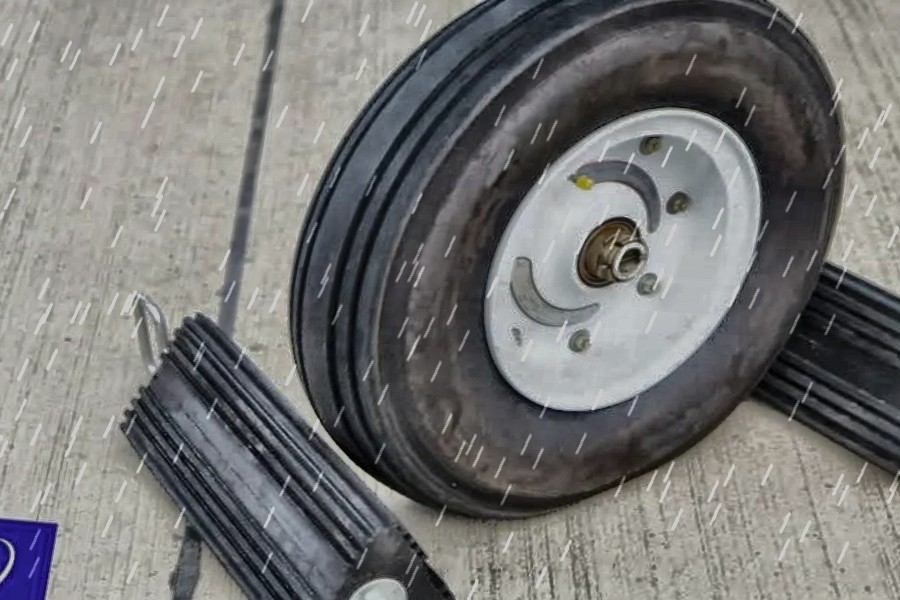chock: (79, 306, 508, 600), (651, 240, 900, 498)
wheel: (259, 0, 873, 541)
